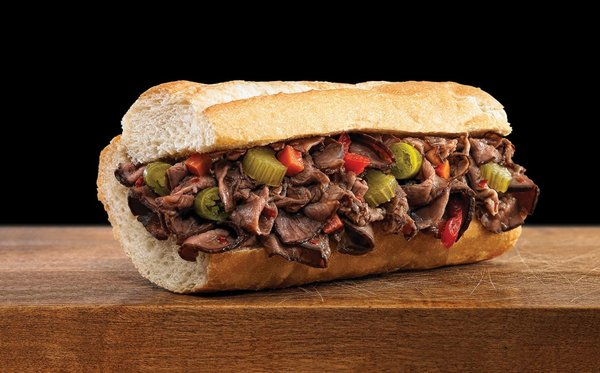soup: (92, 79, 532, 297)
